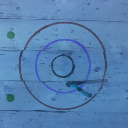Axe Tip: (70, 80, 83, 84)
